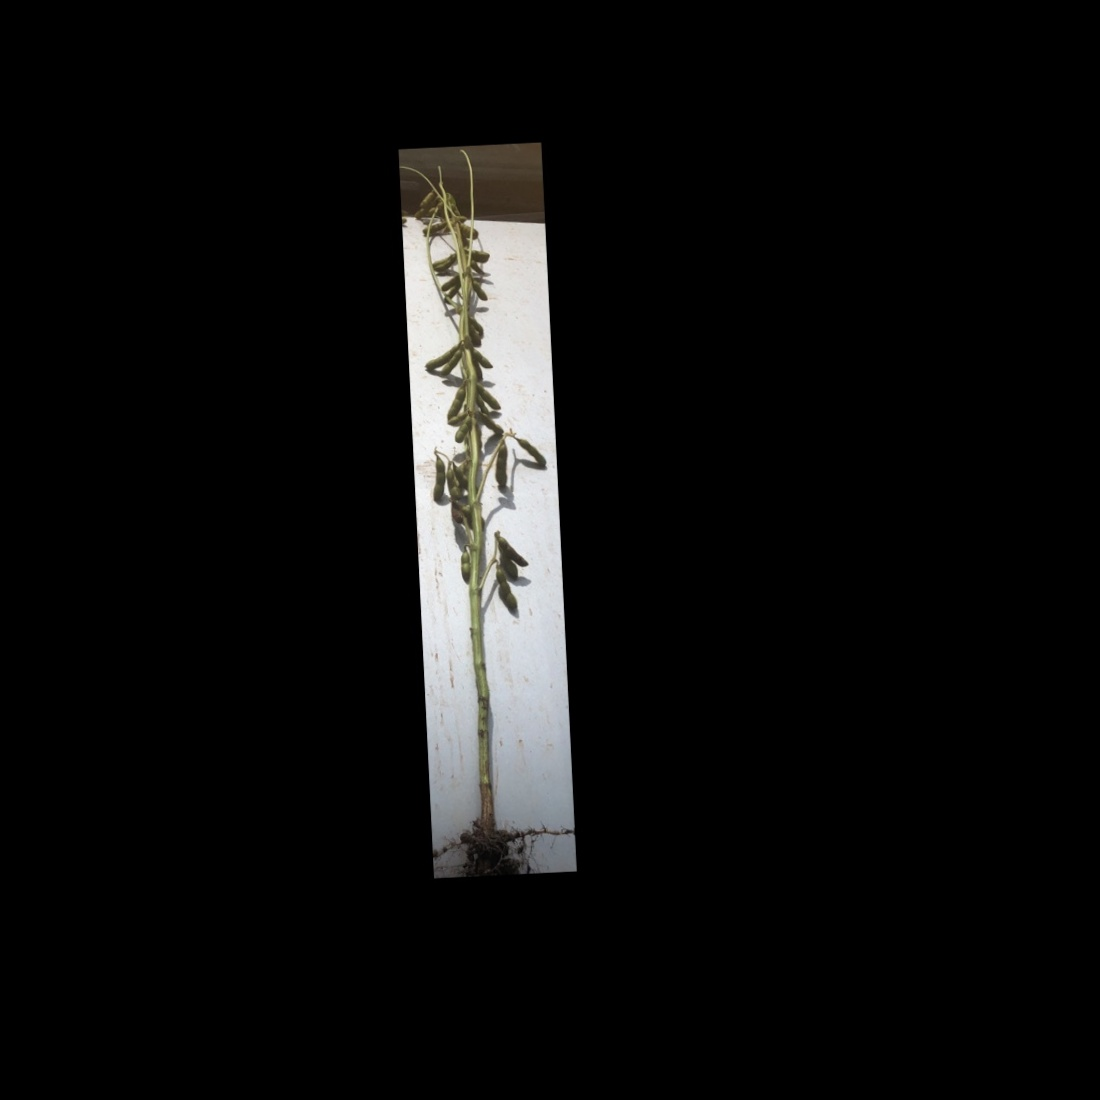pod: (511, 435, 546, 469), (496, 564, 517, 614), (427, 457, 448, 504), (492, 439, 509, 488), (477, 412, 504, 436), (452, 417, 473, 445), (468, 278, 489, 304), (457, 548, 472, 582), (467, 316, 486, 334), (417, 188, 433, 208), (475, 394, 488, 416)
soy: (400, 155, 567, 855)
